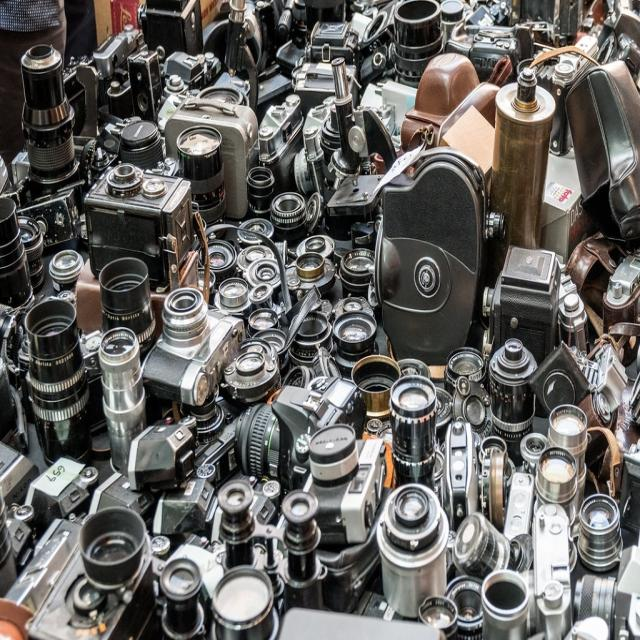E-waste: (4, 10, 640, 628)
